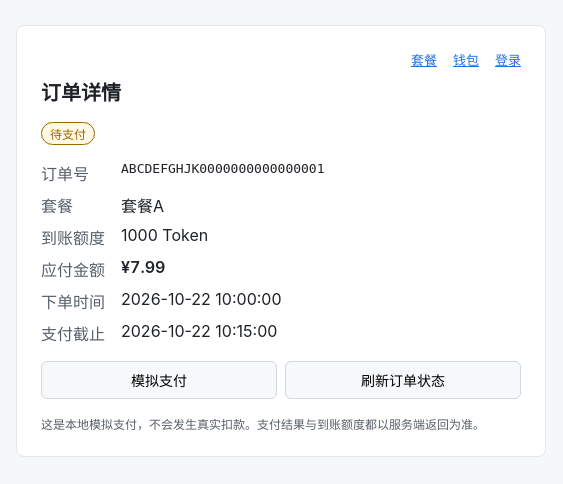
Test: 订单详情页 › 订单过期或已关闭时提示冲突，且不改变页面状态
Click the button "模拟支付" at (159, 380), box [41,361,277,399]
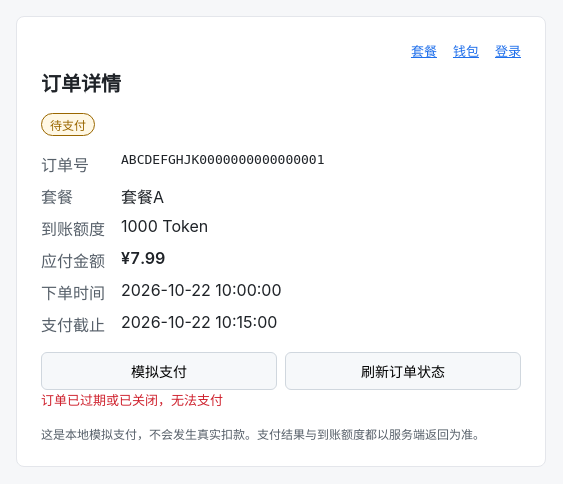
Expected: the text "待支付" is shown, [41,112,95,136]
Expected: the message reads "订单已过期或已关闭，无法支付", [41,392,223,408]
